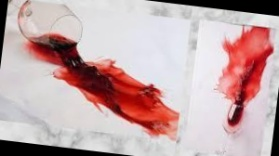wine: (88, 72, 181, 142), (30, 41, 131, 97), (214, 26, 274, 107)
